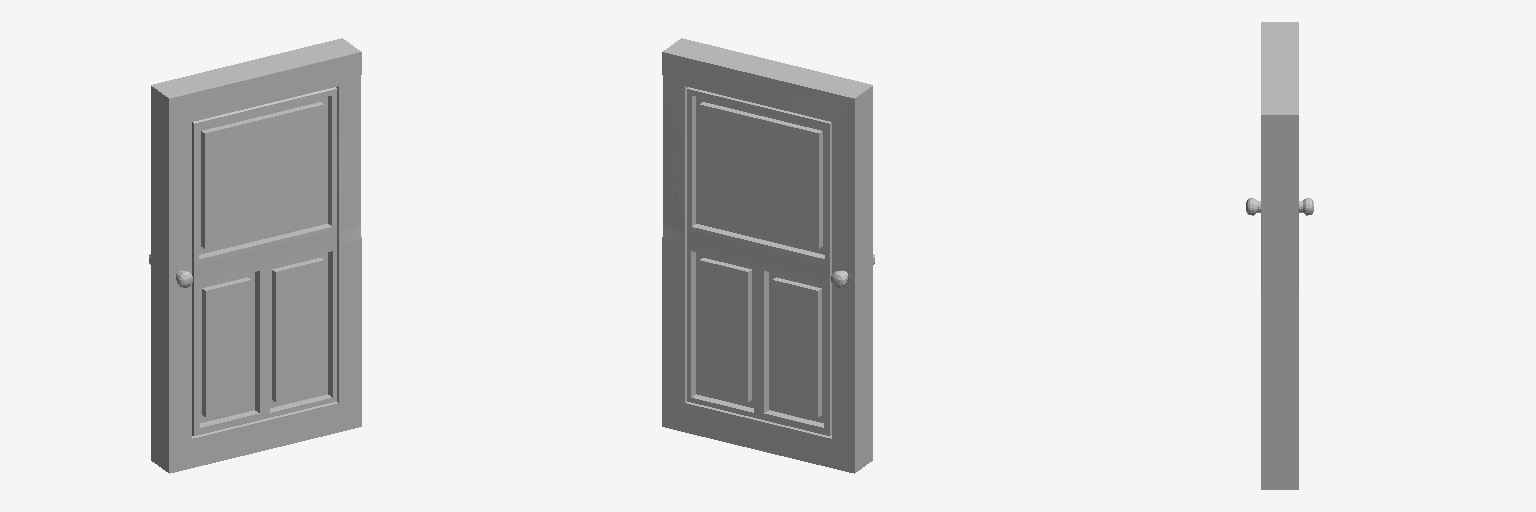
The model's file is Door.obj.
The picture shows the model from 3 angles: view 1: azimuth 30°, elevation 25°; view 2: azimuth 150°, elevation 25°; view 3: azimuth 270°, elevation 25°; orthographic projection.
Size of the model in its own units: 2.32 by 4.33 by 0.7211.